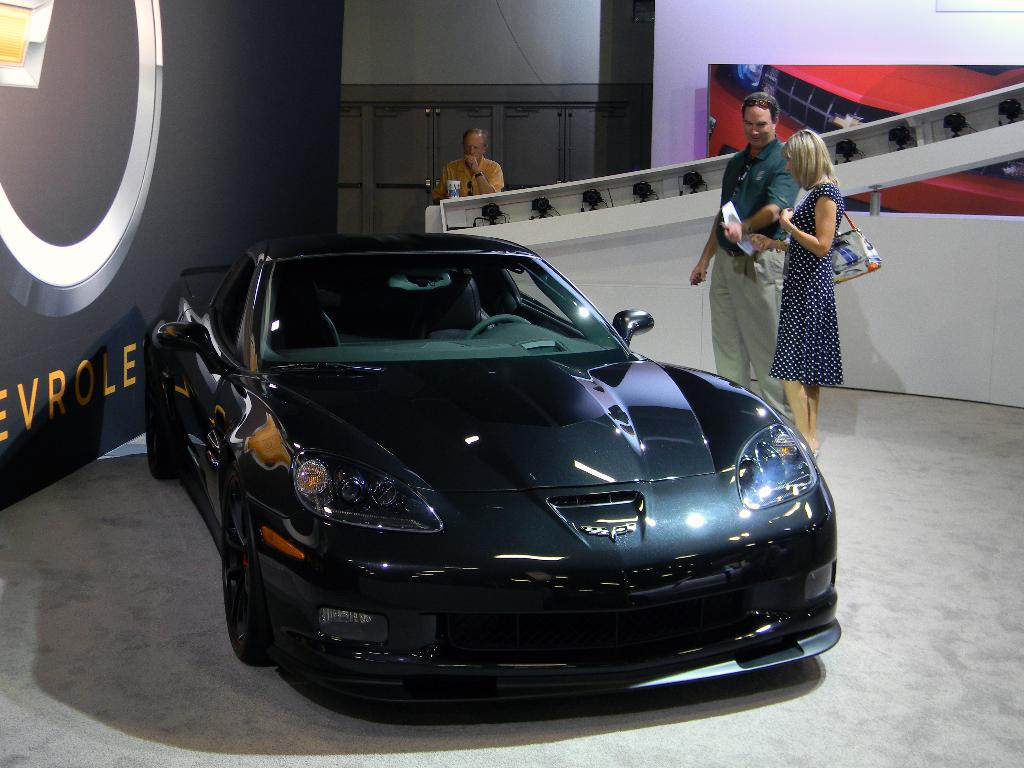Car: (139, 229, 840, 698)
